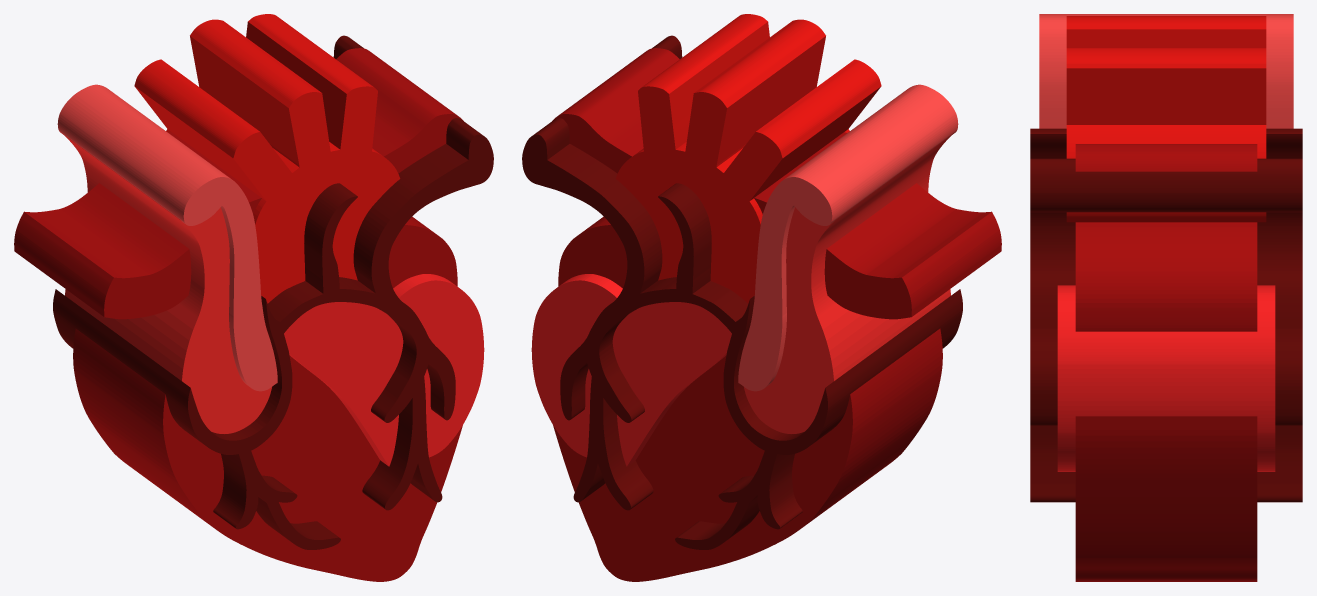
The model's file is U+1FAC0.obj.
3 views of the same model, side by side, from view 1: azimuth 30°, elevation 25°; view 2: azimuth 150°, elevation 25°; view 3: azimuth 270°, elevation 25° (orthographic).
Visible parts, largest first — view 1: U+1FAC0_layer00_obj01, U+1FAC0_layer01_obj00, U+1FAC0_layer05_obj00, U+1FAC0_layer00_obj00, U+1FAC0_layer04_obj00, U+1FAC0_layer02_obj00, U+1FAC0_layer03_obj00, U+1FAC0_layer01_obj02, U+1FAC0_layer05_obj01, U+1FAC0_layer05_obj02; view 2: U+1FAC0_layer00_obj01, U+1FAC0_layer01_obj00, U+1FAC0_layer05_obj00, U+1FAC0_layer00_obj00, U+1FAC0_layer04_obj00, U+1FAC0_layer02_obj00, U+1FAC0_layer03_obj00, U+1FAC0_layer01_obj02, U+1FAC0_layer05_obj01, U+1FAC0_layer05_obj02; view 3: U+1FAC0_layer00_obj01, U+1FAC0_layer05_obj00, U+1FAC0_layer02_obj00, U+1FAC0_layer01_obj00, U+1FAC0_layer00_obj00, U+1FAC0_layer04_obj00, U+1FAC0_layer01_obj02, U+1FAC0_layer05_obj02.
Boxes of the visible parts, left/top/right/bottom form: U+1FAC0_layer00_obj01: left=73, top=48, right=463, bottom=581; U+1FAC0_layer01_obj00: left=134, top=14, right=377, bottom=207; U+1FAC0_layer05_obj00: left=53, top=35, right=493, bottom=454; U+1FAC0_layer00_obj00: left=14, top=132, right=457, bottom=319; U+1FAC0_layer04_obj00: left=57, top=84, right=277, bottom=391; U+1FAC0_layer02_obj00: left=284, top=274, right=484, bottom=466; U+1FAC0_layer03_obj00: left=63, top=134, right=271, bottom=433; U+1FAC0_layer01_obj02: left=166, top=129, right=400, bottom=303; U+1FAC0_layer05_obj01: left=213, top=448, right=340, bottom=549; U+1FAC0_layer05_obj02: left=362, top=368, right=442, bottom=510; U+1FAC0_layer00_obj01: left=552, top=48, right=942, bottom=581; U+1FAC0_layer01_obj00: left=638, top=14, right=881, bottom=207; U+1FAC0_layer05_obj00: left=522, top=35, right=962, bottom=454; U+1FAC0_layer00_obj00: left=558, top=132, right=1001, bottom=319; U+1FAC0_layer04_obj00: left=738, top=84, right=958, bottom=391; U+1FAC0_layer02_obj00: left=531, top=274, right=731, bottom=466; U+1FAC0_layer03_obj00: left=744, top=134, right=952, bottom=433; U+1FAC0_layer01_obj02: left=615, top=129, right=849, bottom=303; U+1FAC0_layer05_obj01: left=675, top=448, right=802, bottom=549; U+1FAC0_layer05_obj02: left=573, top=368, right=653, bottom=510; U+1FAC0_layer00_obj01: left=1075, top=144, right=1257, bottom=581; U+1FAC0_layer05_obj00: left=1030, top=128, right=1302, bottom=425; U+1FAC0_layer02_obj00: left=1057, top=285, right=1275, bottom=471; U+1FAC0_layer01_obj00: left=1066, top=16, right=1266, bottom=124; U+1FAC0_layer00_obj00: left=1075, top=222, right=1257, bottom=331; U+1FAC0_layer04_obj00: left=1039, top=14, right=1293, bottom=128; U+1FAC0_layer01_obj02: left=1066, top=125, right=1266, bottom=222; U+1FAC0_layer05_obj02: left=1030, top=425, right=1302, bottom=502.
Size of the model in its own units: 0.2381 by 0.3142 by 0.15.
